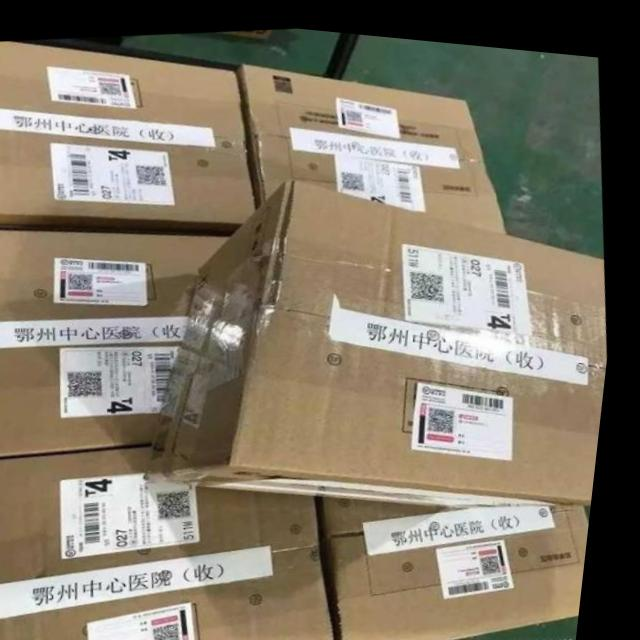box: (152, 174, 612, 501), (0, 441, 352, 640), (0, 230, 238, 457), (0, 40, 264, 224), (237, 61, 514, 225), (331, 489, 600, 640), (331, 491, 554, 530)
